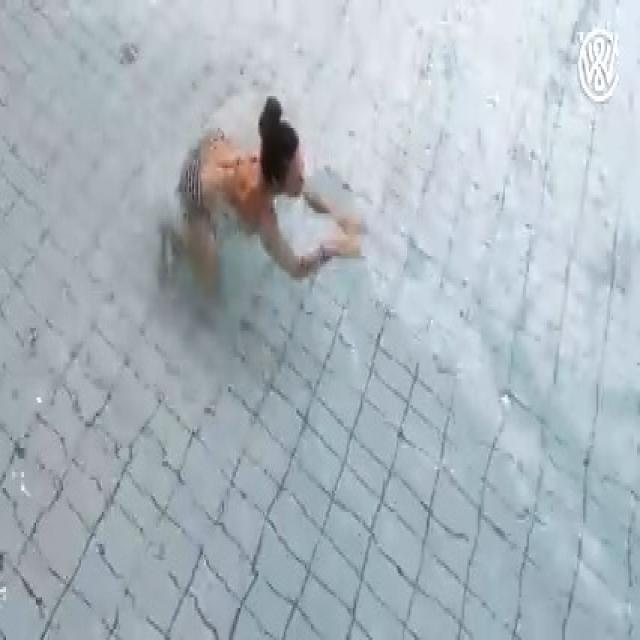Swimming: (166, 97, 368, 302)
